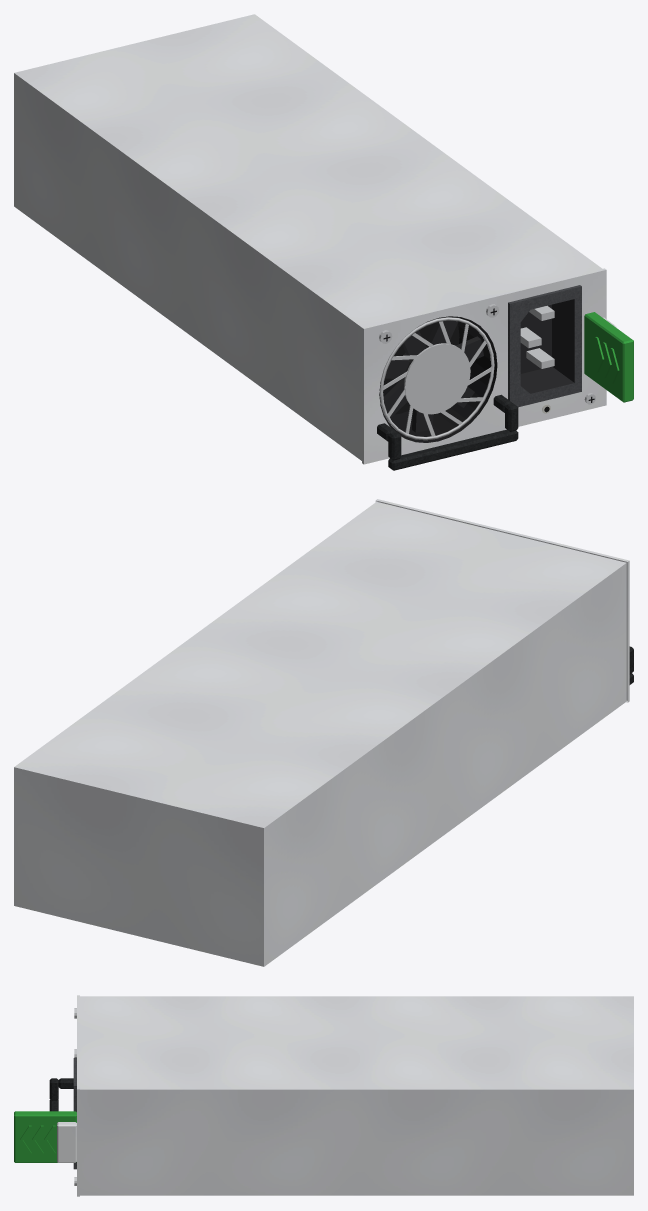
Rendered from FXX750PCRPS.glb.
3 renders of one model, top to bottom at view 1: azimuth 30°, elevation 25°; view 2: azimuth 150°, elevation 25°; view 3: azimuth 270°, elevation 25°, orthographic. The views are drawn at different scales.
Visible parts, largest first — view 1: PSU; view 2: PSU; view 3: PSU.
Boxes of the visible parts, <box> form: PSU: <box>14,14,633,470</box>; PSU: <box>14,499,633,966</box>; PSU: <box>14,995,633,1196</box>.
Bounding box in the file's own units: 0.074 × 0.0395 × 0.2062.
Materials: 9 (3 with a texture image).
